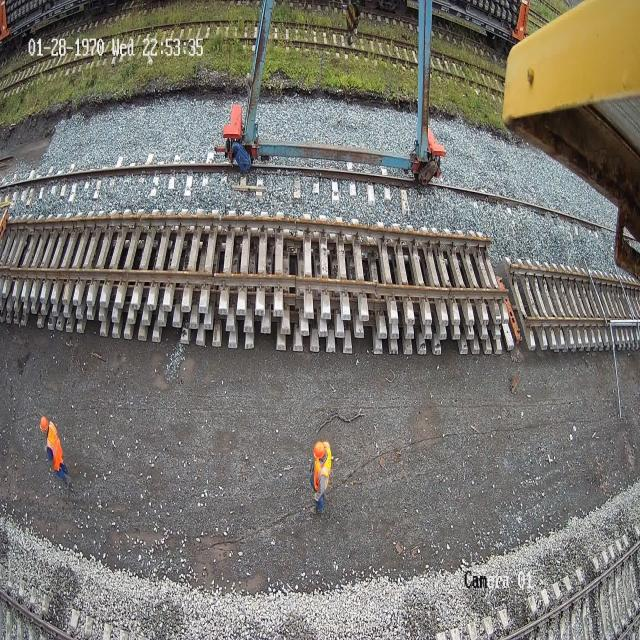Helmet: (313, 441, 325, 459), (40, 416, 48, 431)
Person: (39, 415, 69, 480), (310, 440, 332, 512)
